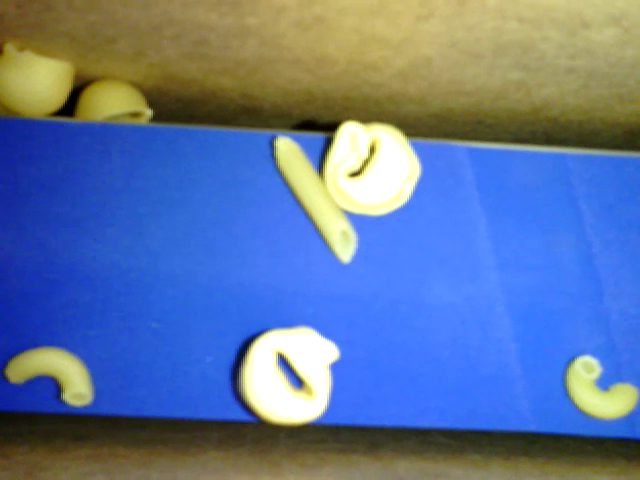elbow: (5, 347, 93, 405), (566, 355, 637, 420)
penne: (273, 134, 356, 265)
shell: (1, 43, 75, 115), (73, 78, 153, 122)
tortellini: (237, 326, 339, 426), (324, 120, 422, 217)
